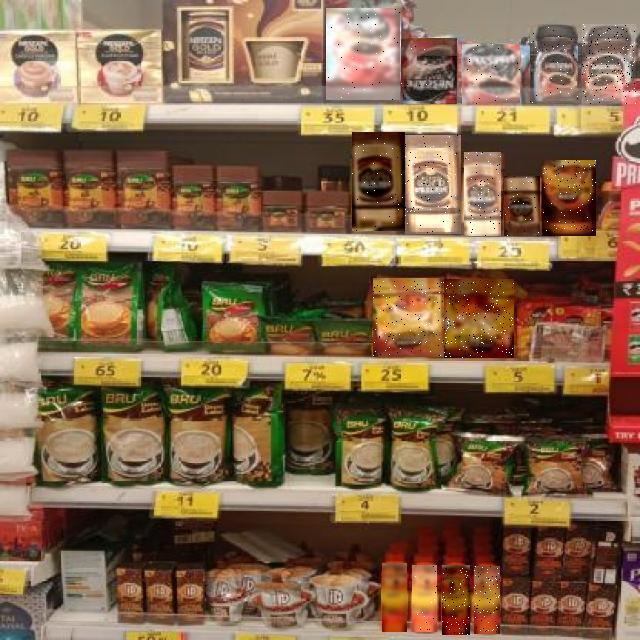Coffee: (326, 9, 400, 101), (373, 278, 444, 357), (405, 135, 461, 234), (444, 279, 514, 358), (352, 132, 405, 231), (582, 25, 636, 105), (542, 161, 596, 237), (530, 25, 578, 104), (401, 38, 457, 104), (462, 44, 520, 105), (464, 153, 501, 237), (505, 176, 541, 236), (442, 565, 470, 635), (475, 566, 501, 634), (382, 563, 407, 632), (412, 565, 437, 632)
